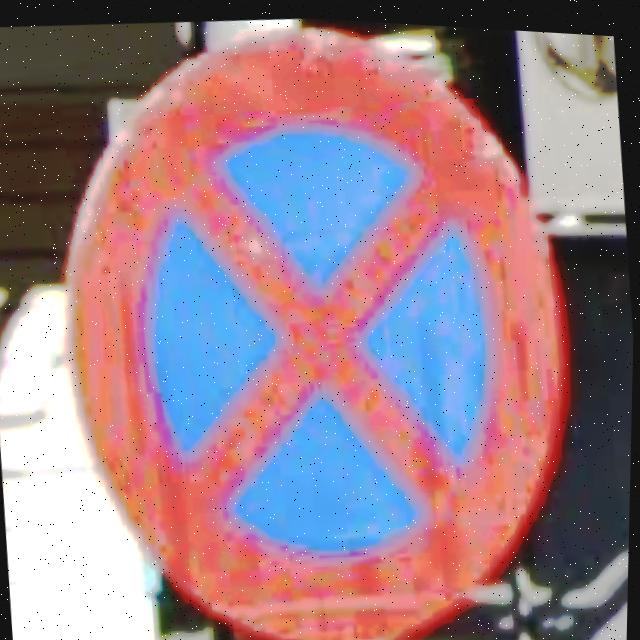nopark: (66, 26, 570, 640)
